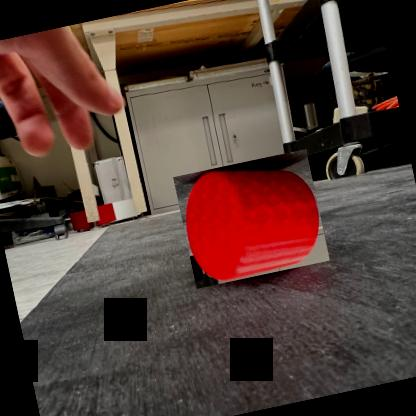red cylinder: (173, 148, 330, 288)
